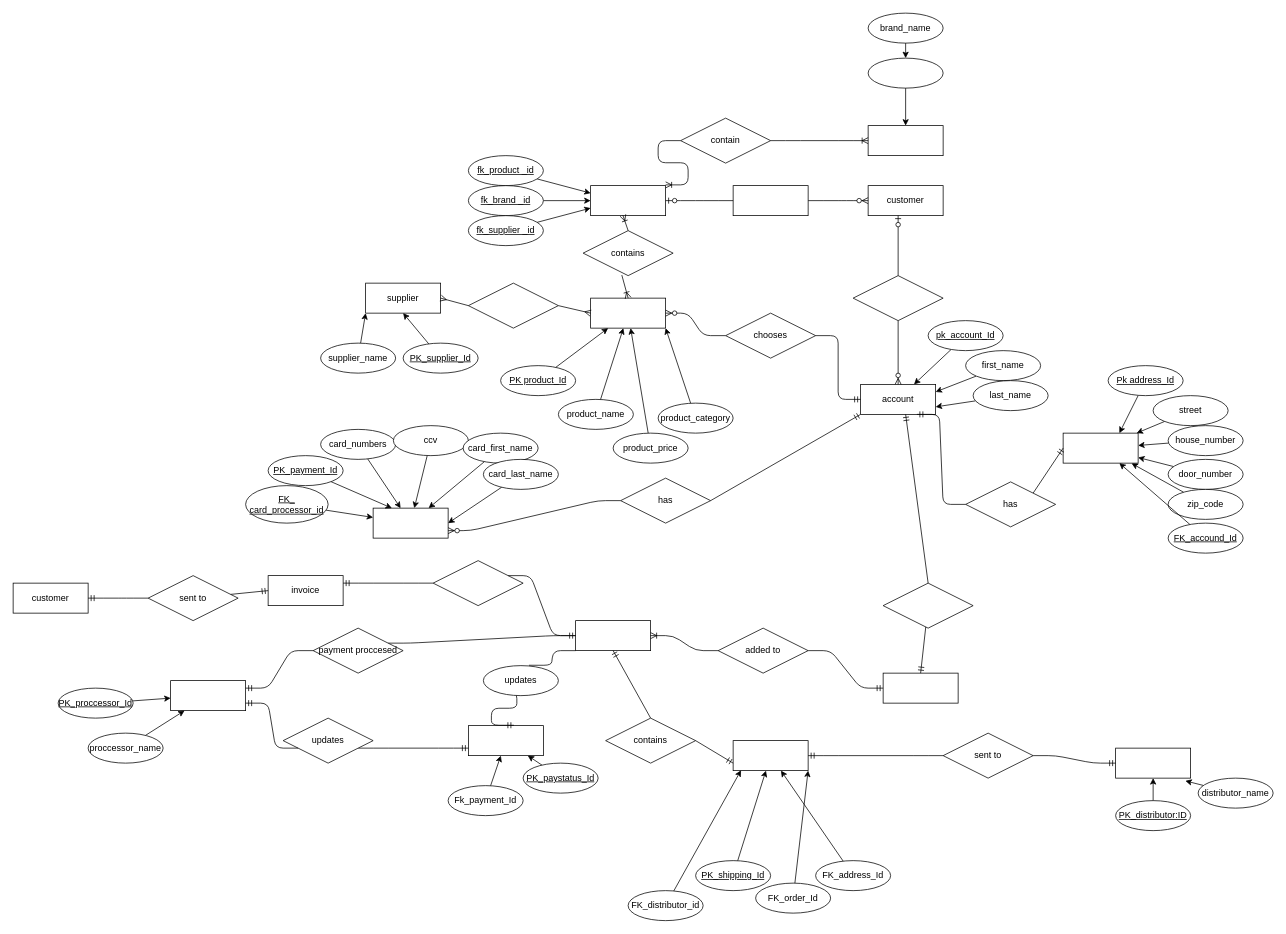
Some shapes in this 1286 by 934 pixel diagram are drawn without their labels. The centre of each missing label's shape, as x and y in pixels:
"address" goes at (x=1100, y=447).
"adds products" goes at (x=927, y=605).
"Brand" goes at (x=905, y=140).
"brand_id" goes at (x=905, y=72).
"browse" goes at (x=770, y=200).
"card_proccess or" goes at (x=208, y=695).
"cart" goes at (x=920, y=687).
"distibutor" goes at (x=1153, y=762).
"generate" goes at (x=477, y=583).
"makes" goes at (x=897, y=298).
"order" goes at (x=613, y=635).
"payment_info" goes at (x=410, y=522).
"payment_status" goes at (x=505, y=740).
"product_catalog" goes at (x=628, y=200).
"products" goes at (x=628, y=312).
"provides" goes at (x=513, y=305).
"shipping_details" goes at (x=770, y=755).
